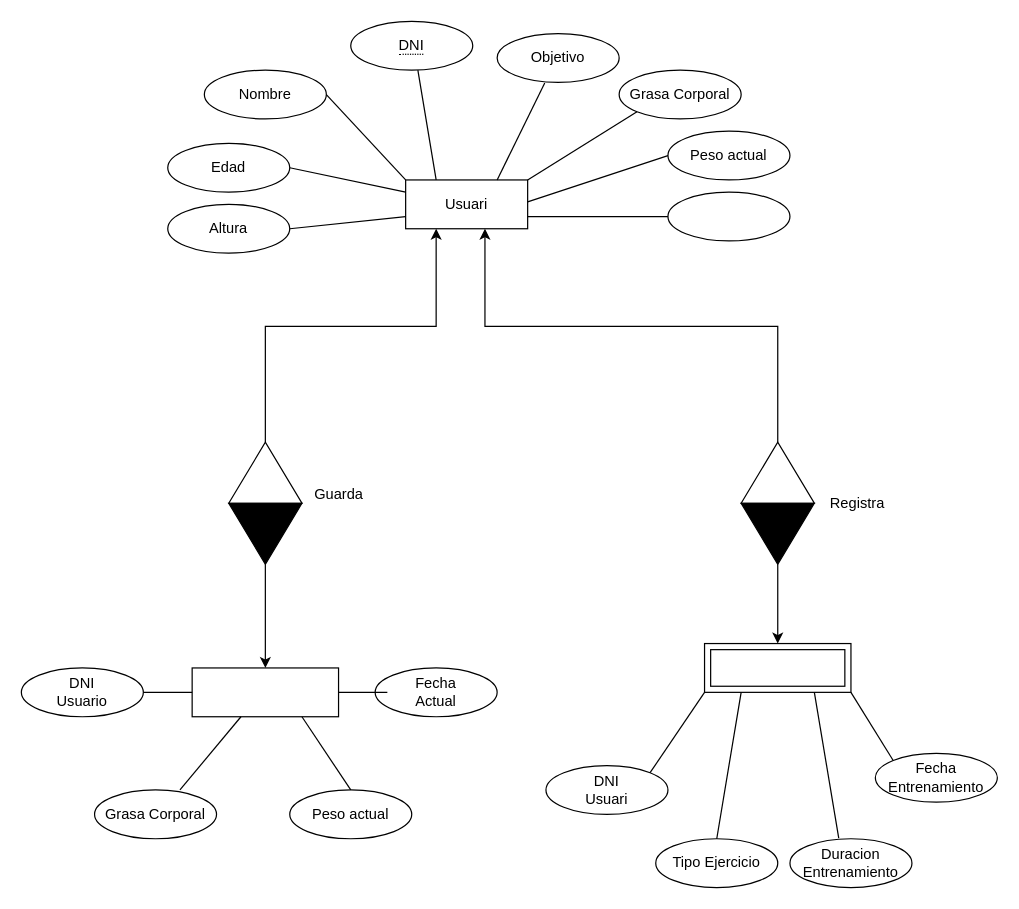
The diagram is 1019 pixels wide and 909 high, and some of its shapes have lost their labels. The centre of each missing label's shape, as x and y in pixels:
"Genero" belongs at (x=728, y=216).
"Progreso" belongs at (x=265, y=692).
"Registro Entrenamientos" belongs at (x=777, y=667).
